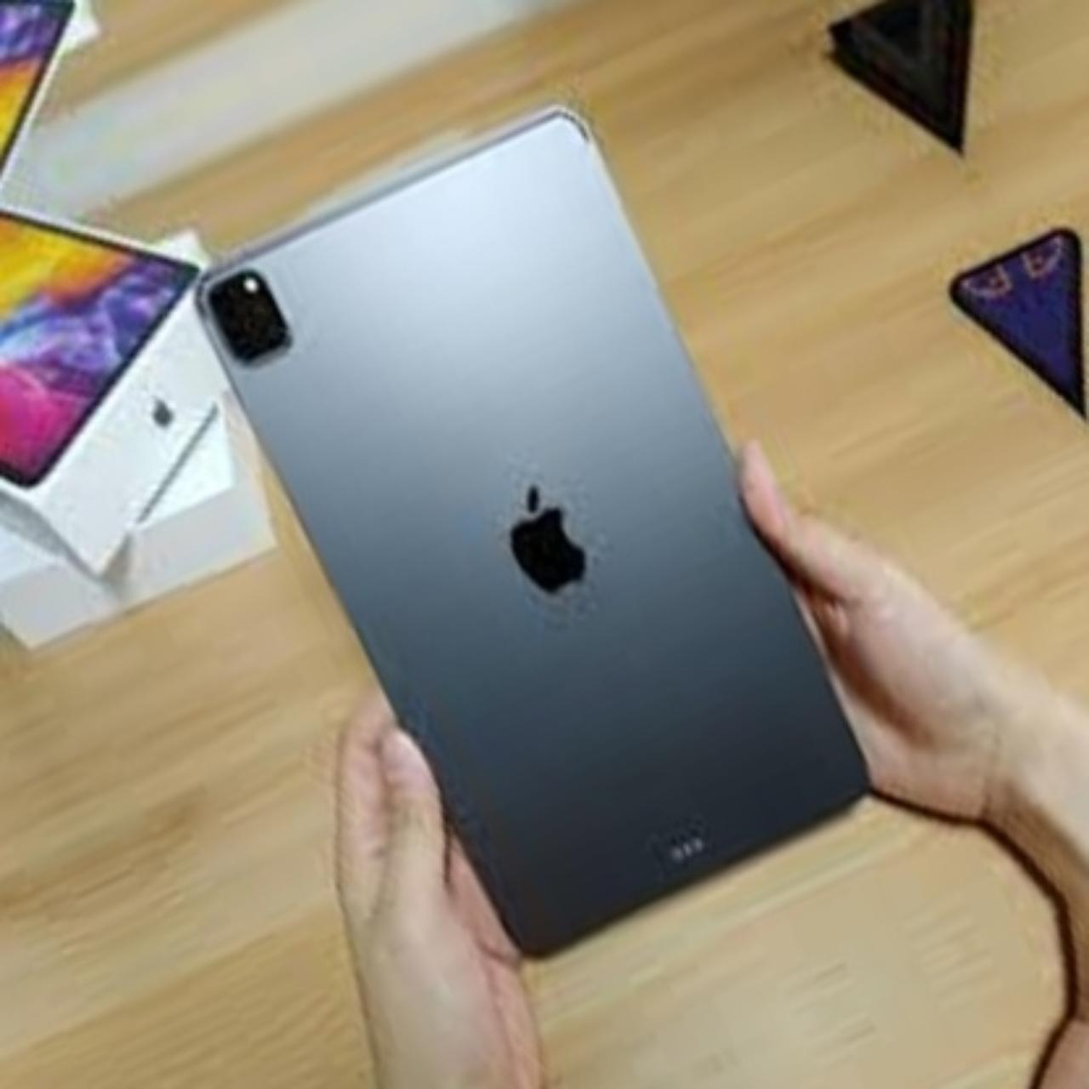Tablet_PC: (171, 81, 922, 1000)
